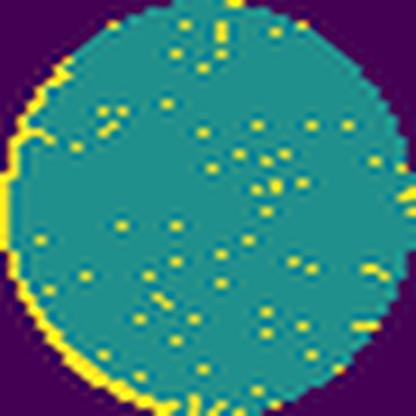Edge-Ring: (0, 0, 249, 416)
